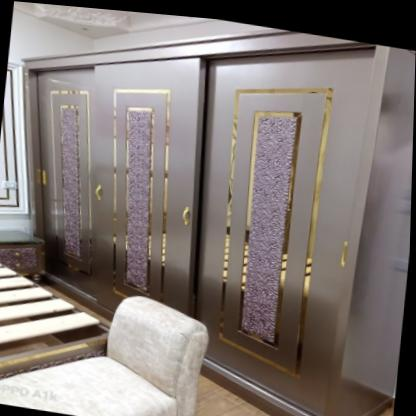Closet: (25, 30, 416, 416)
